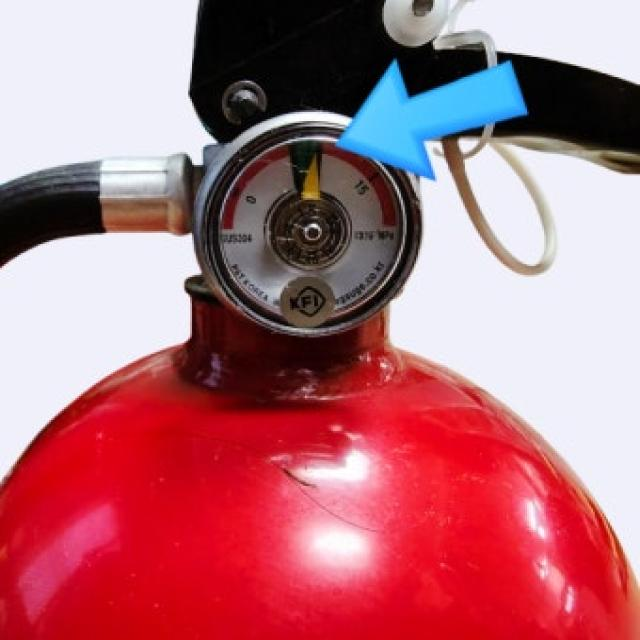pressure gauge: (194, 114, 416, 336)
